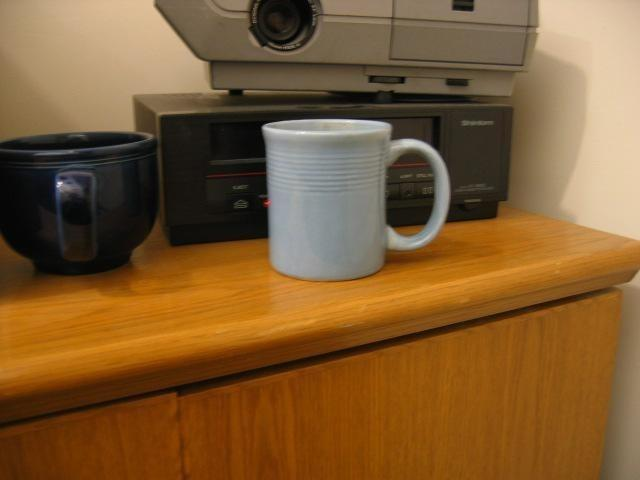cup-handle: (259, 115, 450, 284), (1, 128, 161, 277)
